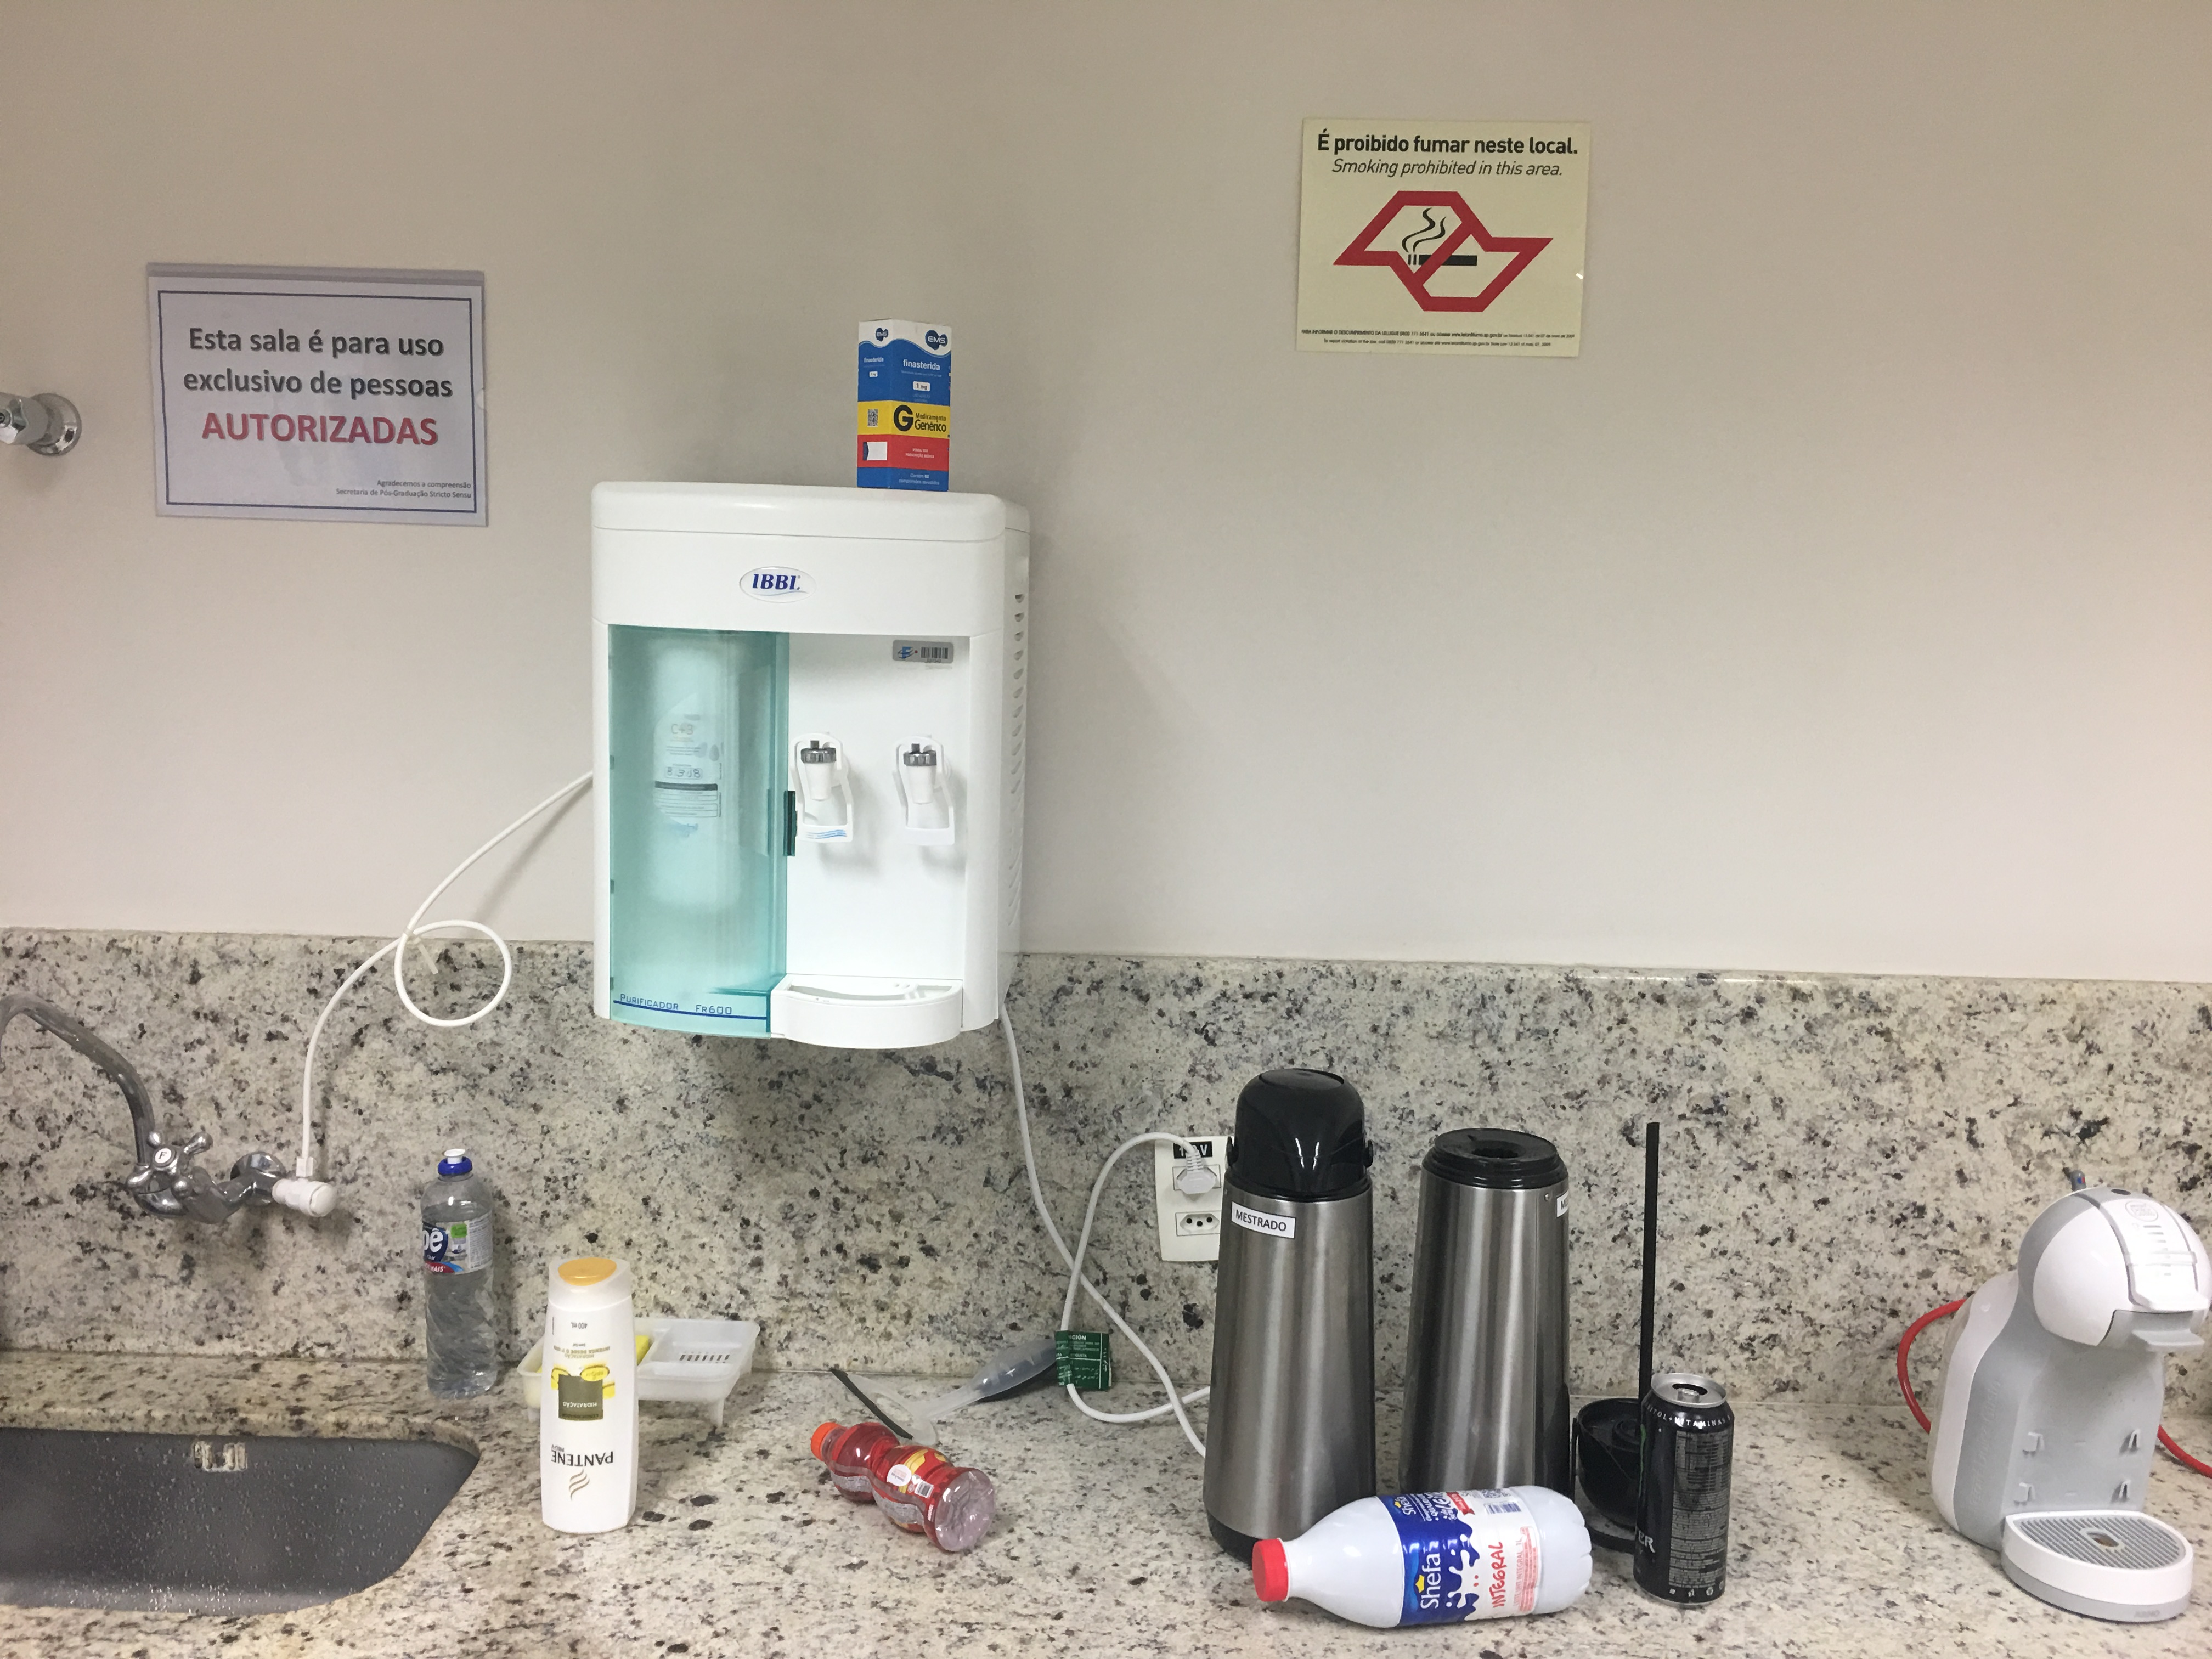iron_man: (807, 1420, 1011, 1559)
medicine: (849, 313, 959, 497)
milk_bottle: (1246, 1478, 1595, 1629)
monster: (1640, 1375, 1734, 1610)
shampoo: (536, 1245, 642, 1539)
